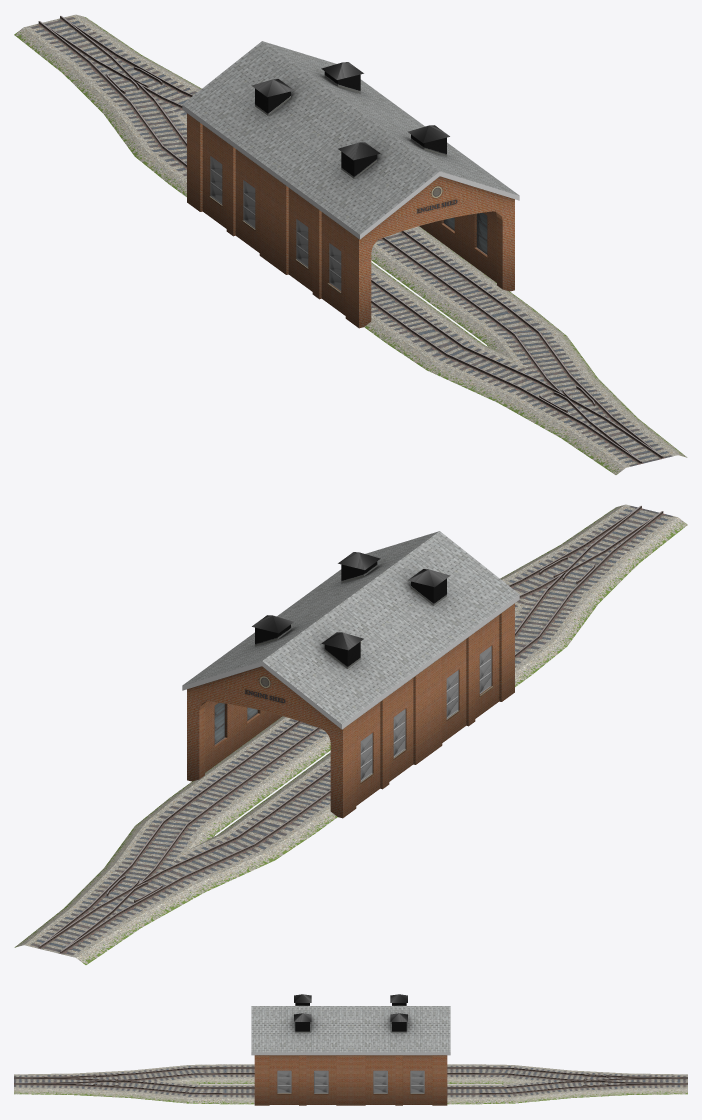
Rendered from EngineShed2.fbx.
The picture shows the model from 3 angles, top to bottom: view 1: azimuth 30°, elevation 25°; view 2: azimuth 150°, elevation 25°; view 3: azimuth 270°, elevation 25°; orthographic projection. The views are drawn at different scales.
Visible parts, largest first — view 1: U3DMesh; view 2: U3DMesh; view 3: U3DMesh.
Part boxes in pixels (x1,y1,x2,y2): U3DMesh: (14,14,687,474); U3DMesh: (14,504,687,964); U3DMesh: (14,994,687,1105).
Bounding box in the file's own units: 9.81 × 8.44 × 64.
